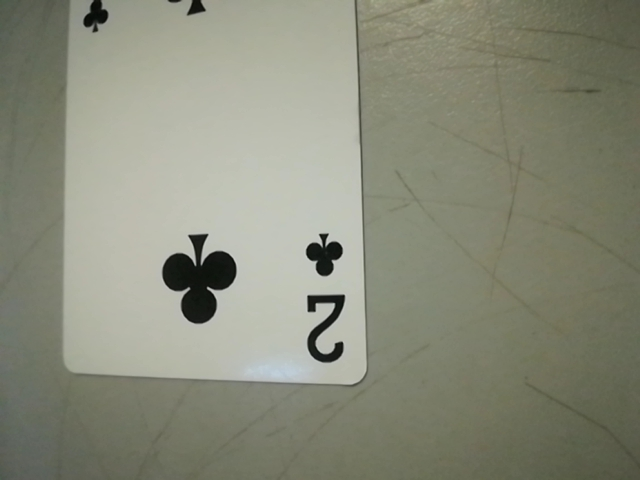mh 2: (291, 220, 359, 376)
